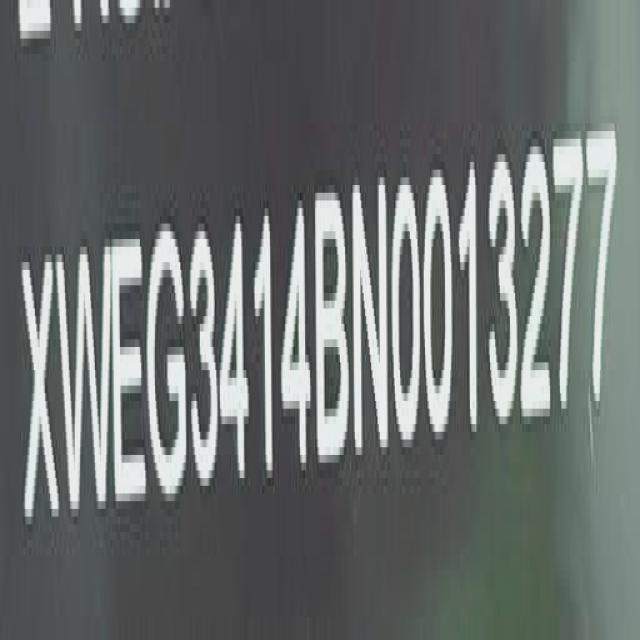0: (422, 160, 453, 448), (392, 174, 421, 455)
1: (253, 201, 275, 489), (461, 153, 482, 448)
2: (523, 142, 553, 433)
3: (489, 150, 522, 443), (190, 218, 219, 500)
4: (283, 195, 314, 486), (218, 217, 250, 496)
7: (591, 117, 621, 421), (554, 126, 584, 429)
B: (318, 185, 350, 474)
E: (111, 235, 147, 521)
G: (147, 220, 187, 510)
N: (352, 175, 388, 467)
W: (60, 241, 110, 535)
X: (22, 256, 59, 540)
